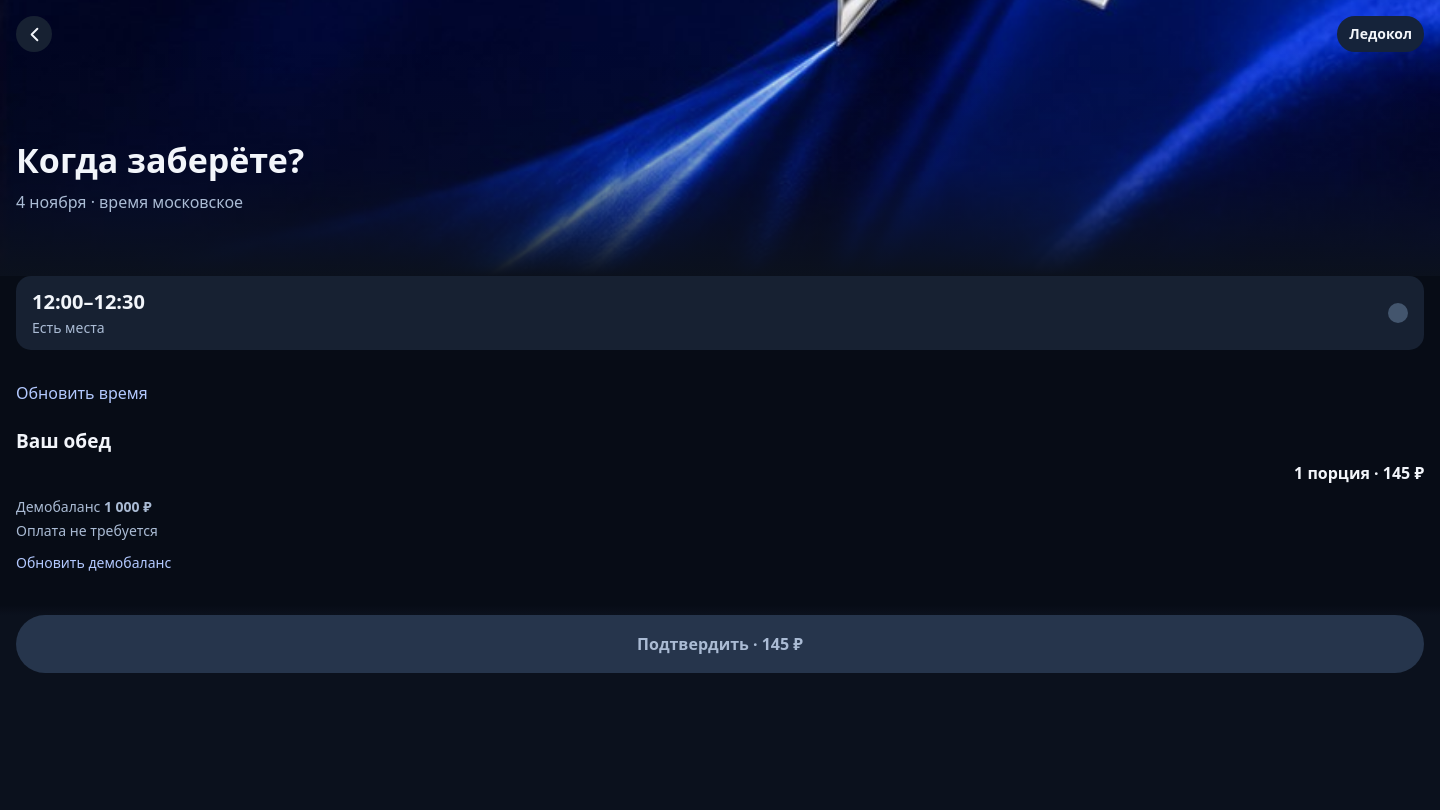
order stages illuminate one segment at a time and cancellation stays separate
Step 1. Click the button with aria-label "12:00–12:30 · Есть места" → (88, 302), box top-left (16, 276), bottom-right (1424, 350)
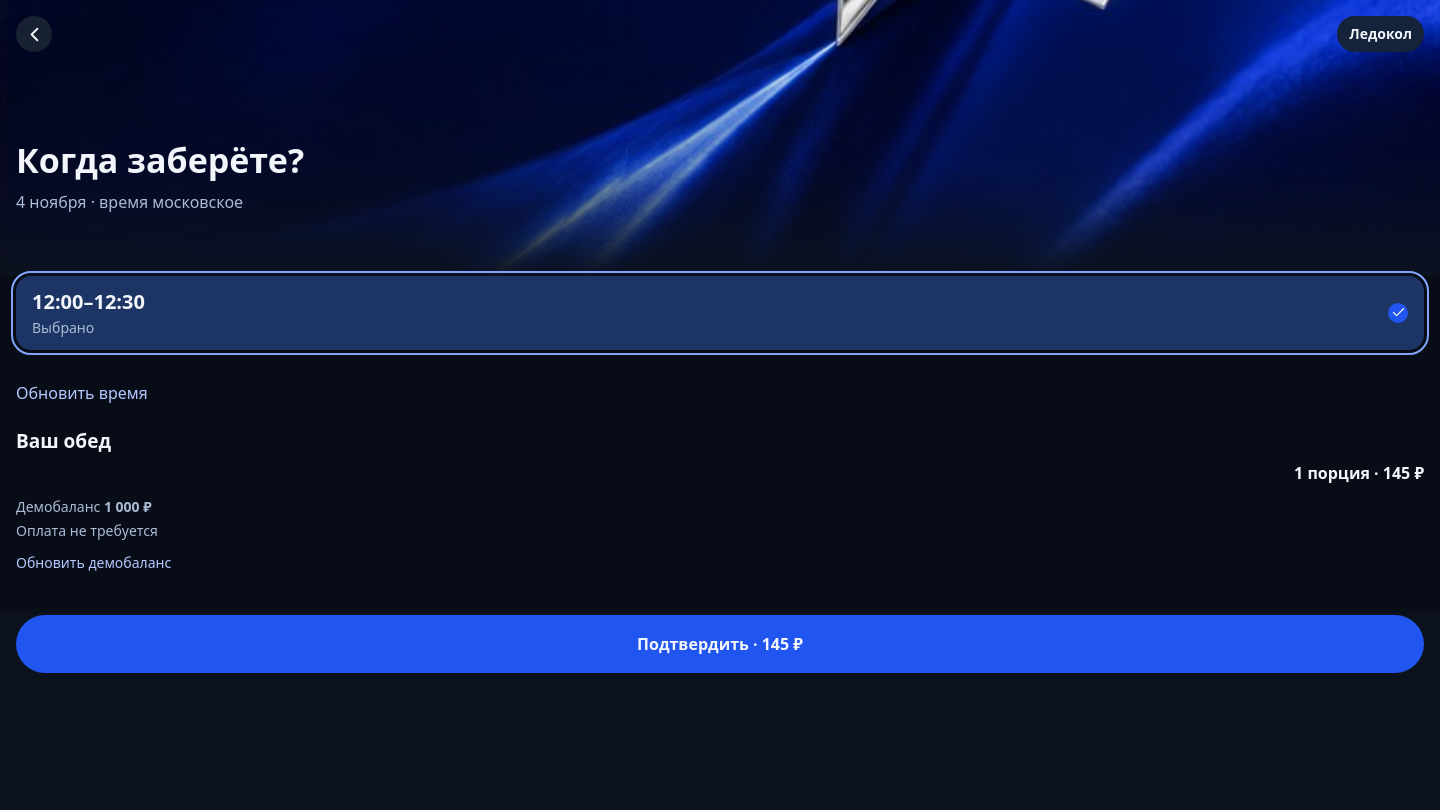
Step 2. Click the button "Подтвердить · 145 ₽" → (720, 644), box top-left (16, 615), bottom-right (1424, 673)
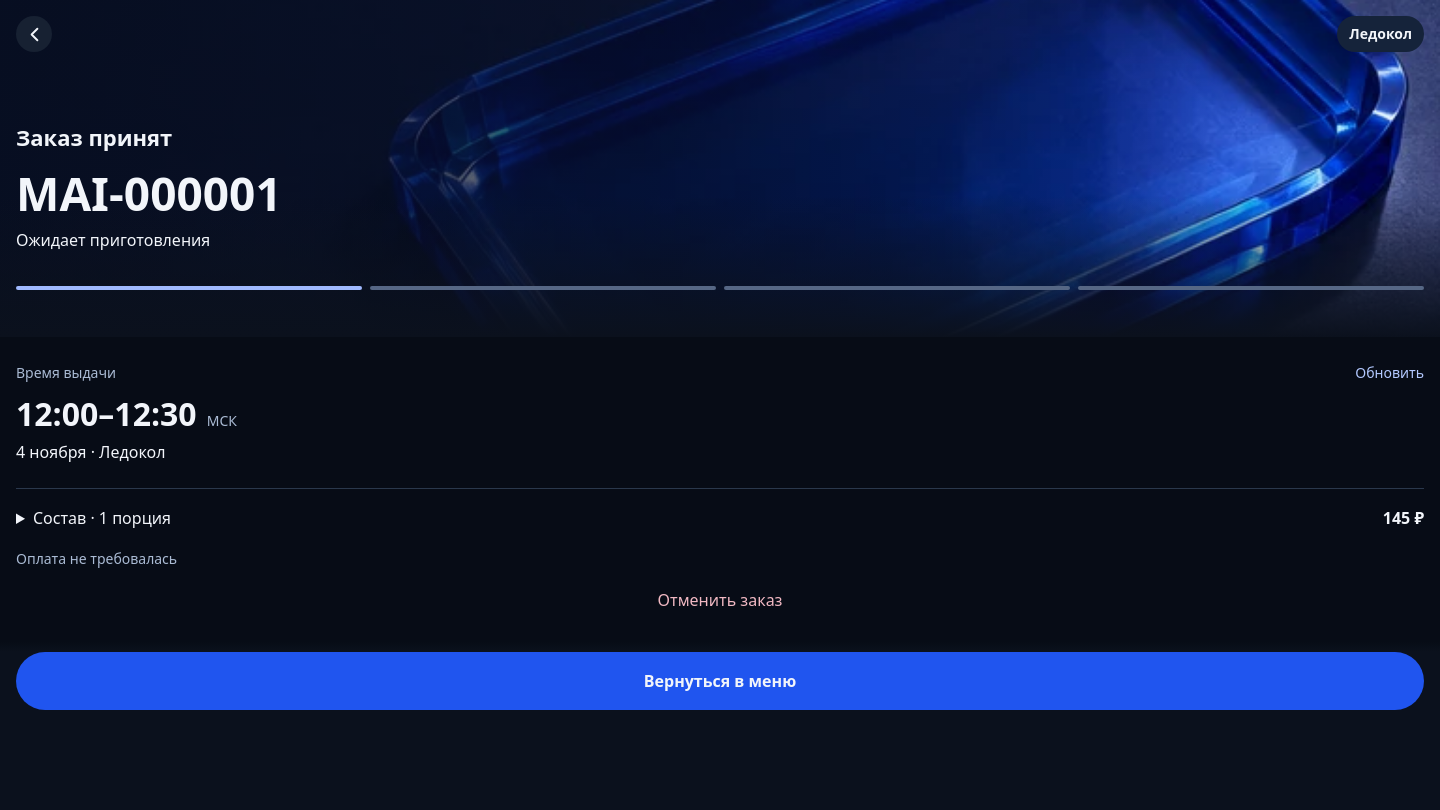
Expected: the element with class "order-banner" has attribute data-stage="PENDING", top-left (0, 0), bottom-right (1439, 337)
Step 3. Click the button "Обновить" → (1390, 373), box top-left (1355, 351), bottom-right (1424, 395)
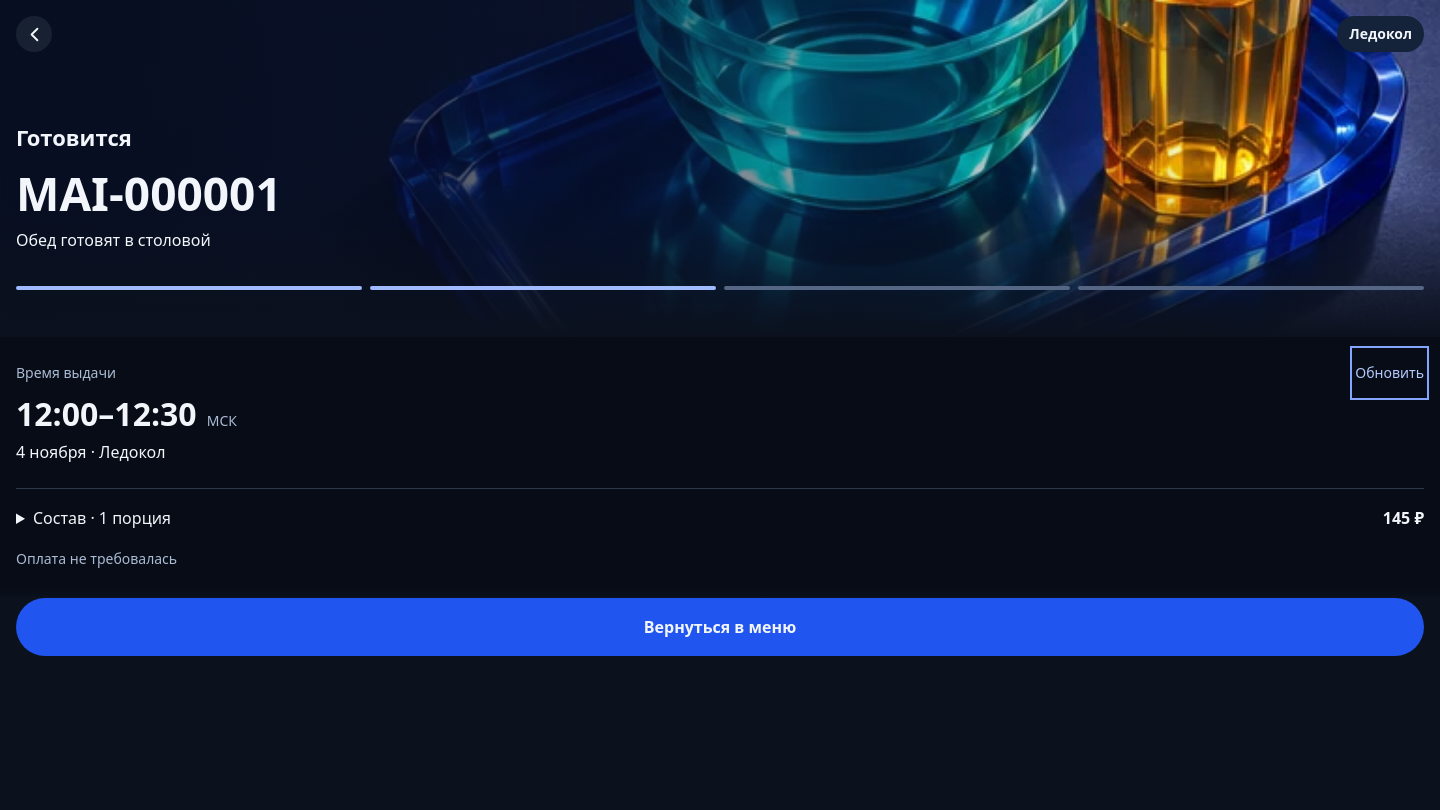
Expected: the heading "Готовится" is shown, top-left (16, 122), bottom-right (132, 152)
Step 4. Click the button "Обновить" → (1390, 373), box top-left (1355, 351), bottom-right (1424, 395)
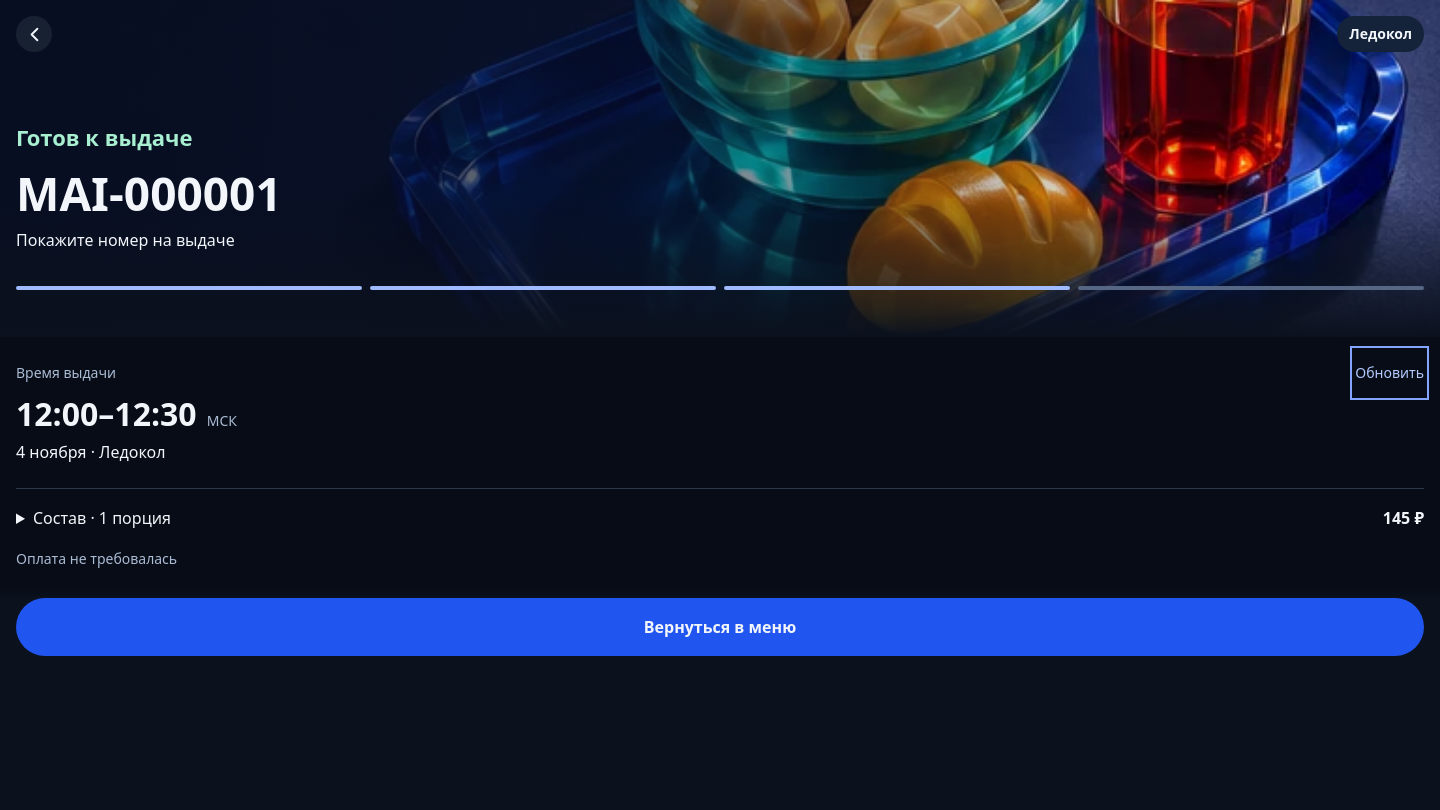
Expected: the heading "Готов к выдаче" is shown, top-left (16, 122), bottom-right (192, 152)
Step 5. Click the button "Обновить" → (1390, 373), box top-left (1355, 351), bottom-right (1424, 395)
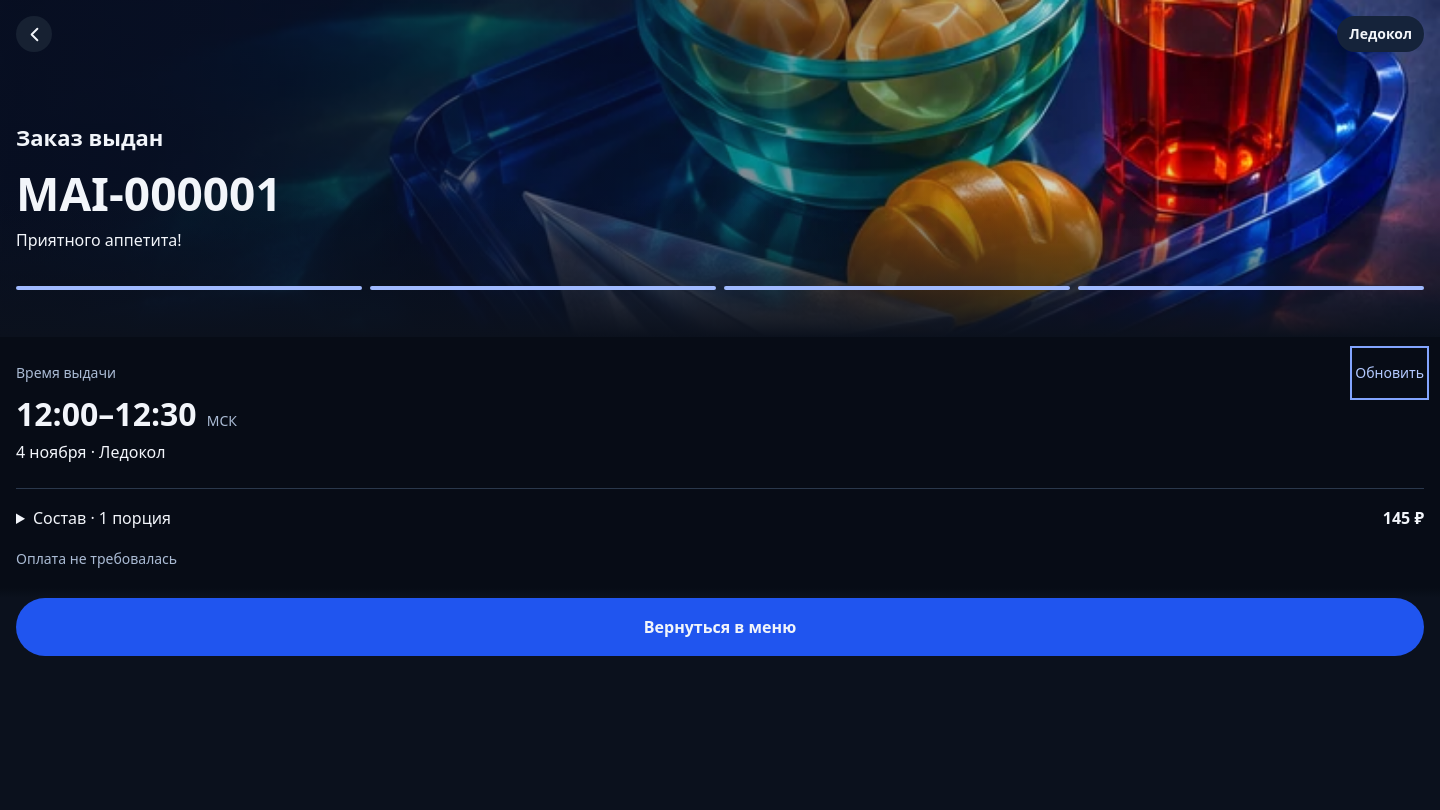
Expected: the heading "Заказ выдан" is shown, top-left (16, 122), bottom-right (163, 152)
Step 6. Click the button "Обновить" → (1390, 373), box top-left (1355, 351), bottom-right (1424, 395)
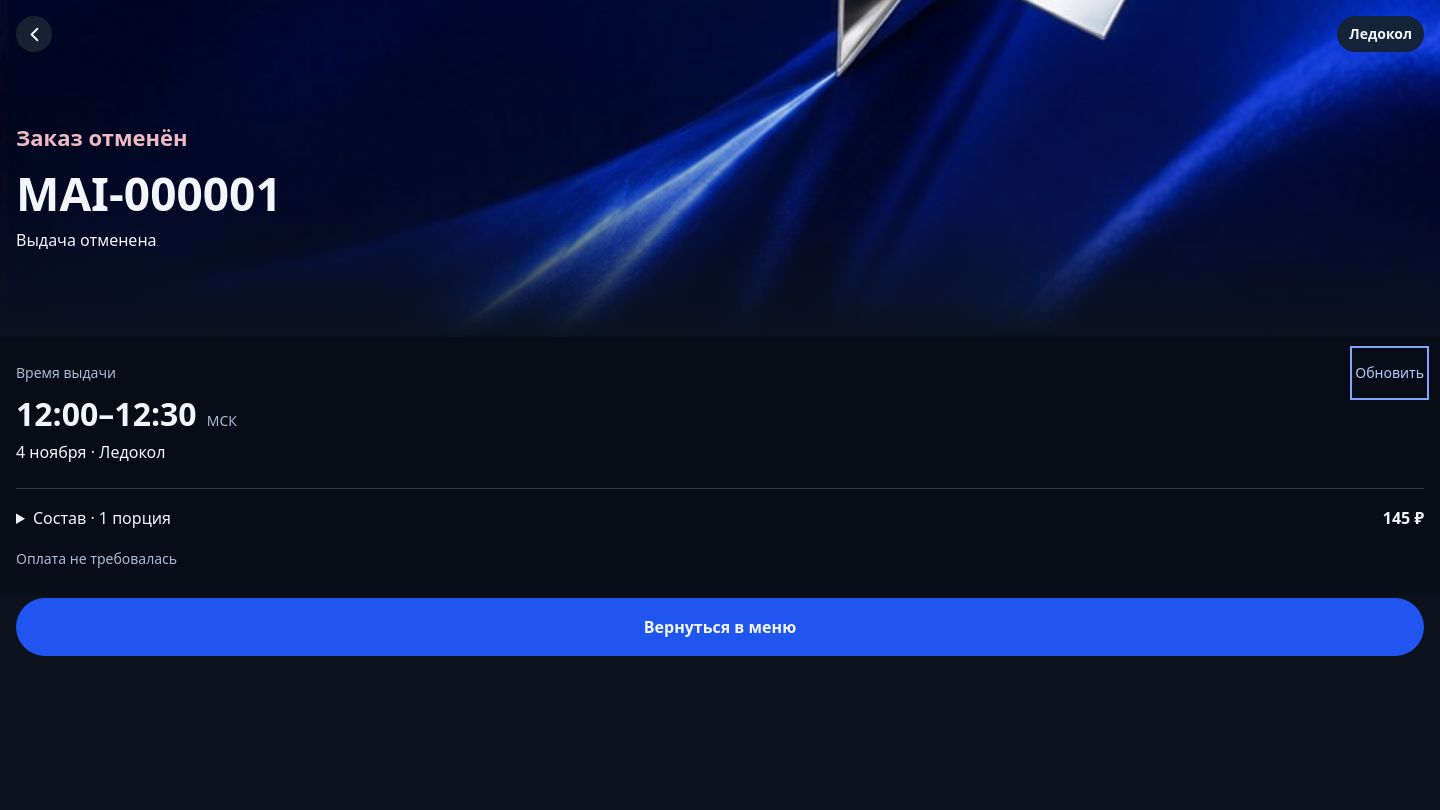
Expected: the heading "Заказ отменён" is shown, top-left (16, 122), bottom-right (188, 152)
